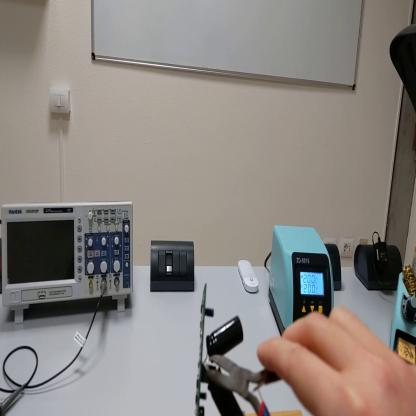hand: (259, 305, 416, 415)
high voltage board: (196, 282, 247, 415)
oscilloscope: (1, 196, 136, 324)
oscilloscope probe tip: (1, 385, 25, 415)
pliers: (205, 352, 282, 416)
socket: (355, 242, 404, 298), (326, 244, 344, 293)
welder base: (391, 266, 416, 365)
welder station: (269, 224, 335, 339)
